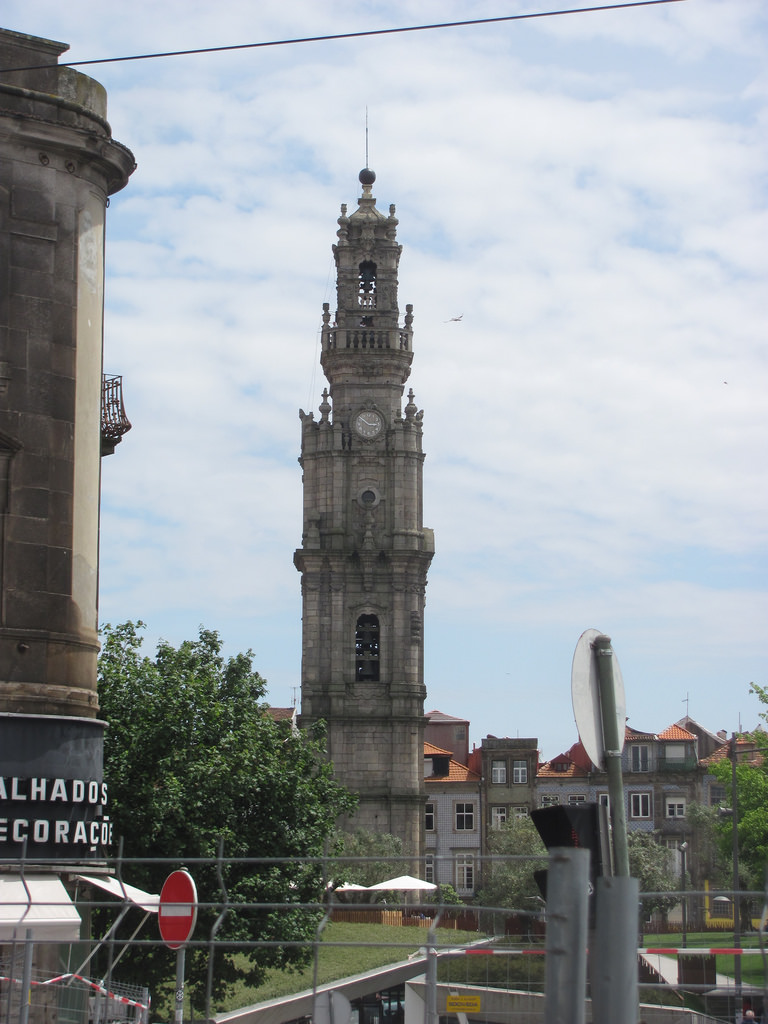clerigos: (292, 104, 436, 883)
